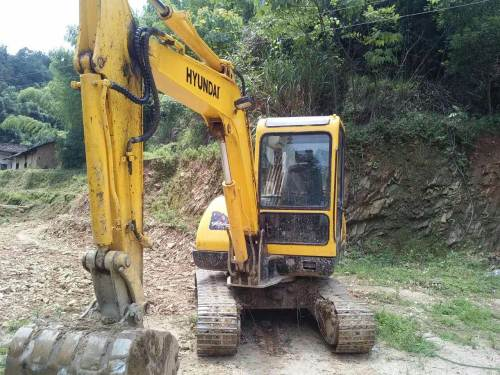excavator: (6, 2, 383, 375)
